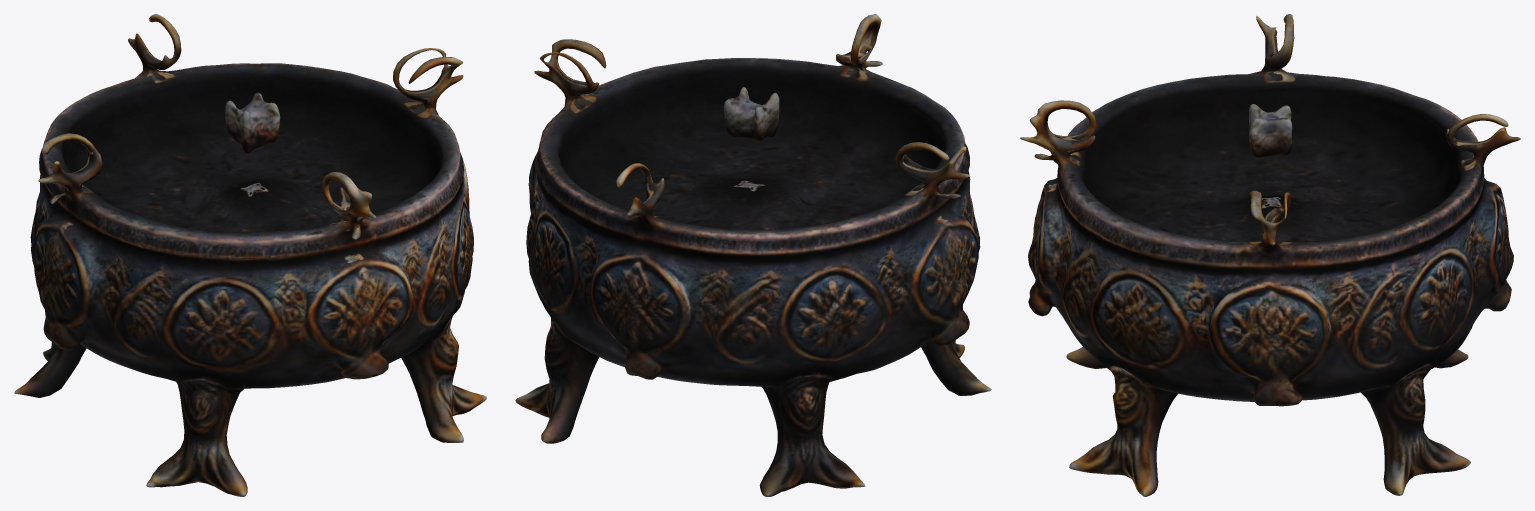
File: Brazier.fbx
The picture shows the model from 3 angles, left to right: view 1: azimuth 30°, elevation 25°; view 2: azimuth 150°, elevation 25°; view 3: azimuth 270°, elevation 25°; orthographic projection.
Parts seen in each view (by area): view 1: mesh; view 2: mesh; view 3: mesh.
Boxes of the visible parts, x1=… form: mesh: x1=14, y1=14, x2=486, y2=496; mesh: x1=515, y1=14, x2=991, y2=496; mesh: x1=1020, y1=14, x2=1520, y2=496.
Bounding box in the file's own units: 98.23 × 67.98 × 98.11.
